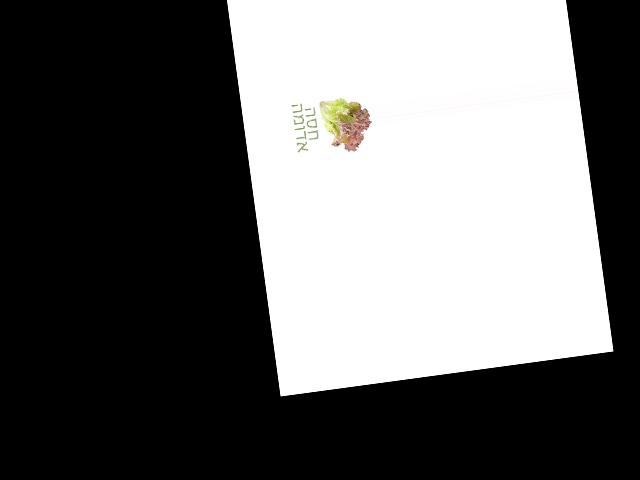lettuce: (316, 88, 375, 156)
